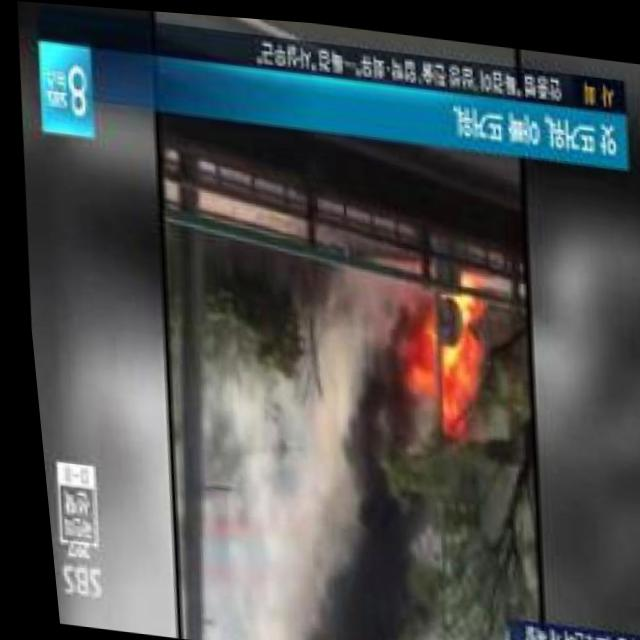Fire: (387, 254, 496, 429)
